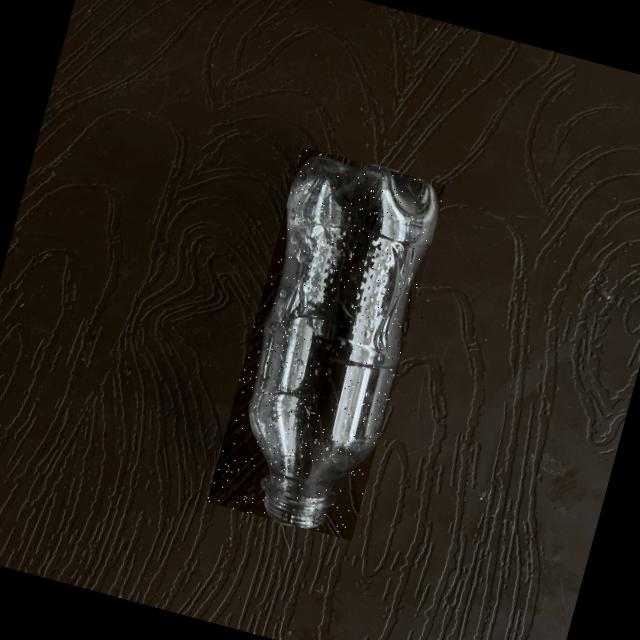PET_With_Liquid: (250, 157, 437, 526)
